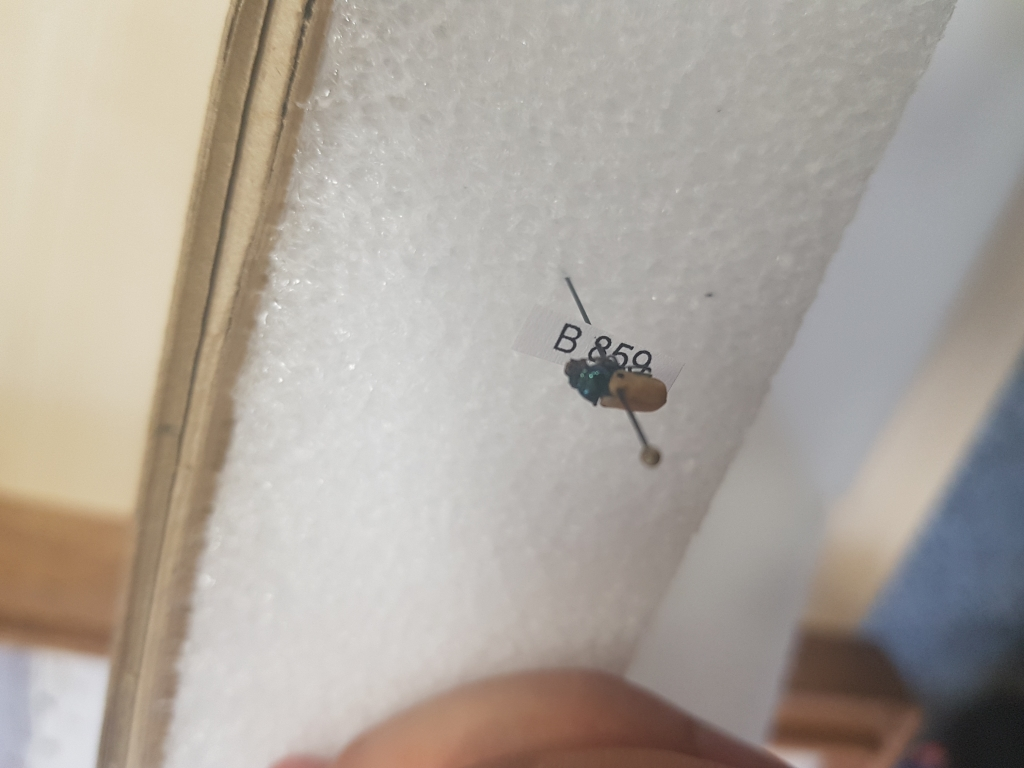Labidostomis_longimana: (564, 356, 674, 416)
